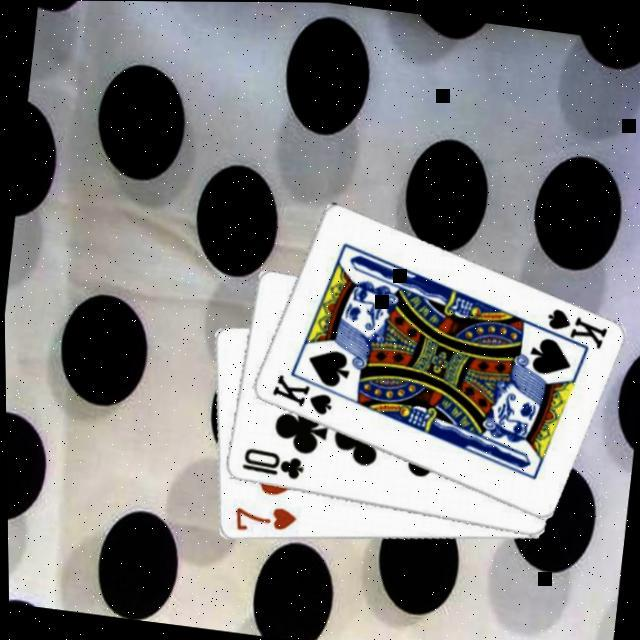10C: (236, 444, 306, 484)
7H: (228, 500, 298, 540)
KS: (530, 303, 612, 356), (265, 370, 337, 419)
